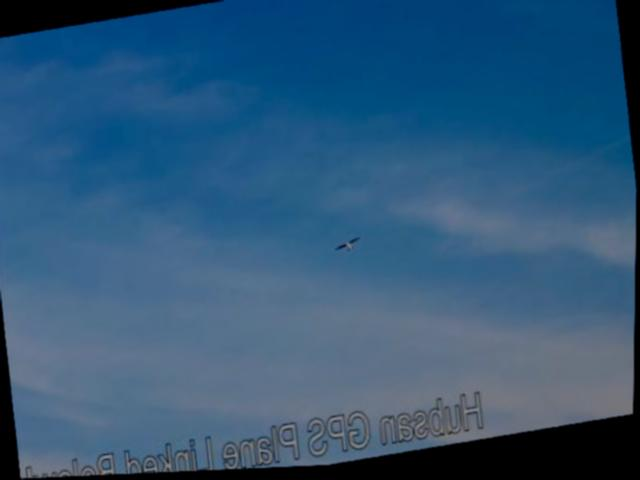uav: (331, 232, 366, 263)
